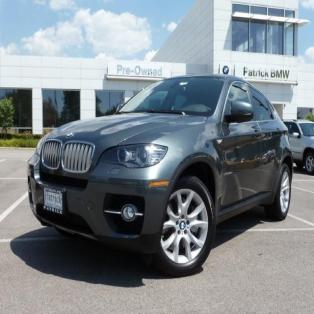Auto: (26, 72, 294, 274)
